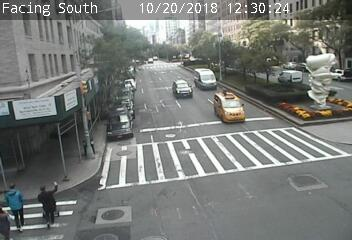car: (213, 89, 245, 124), (194, 68, 217, 90), (173, 79, 193, 98)
